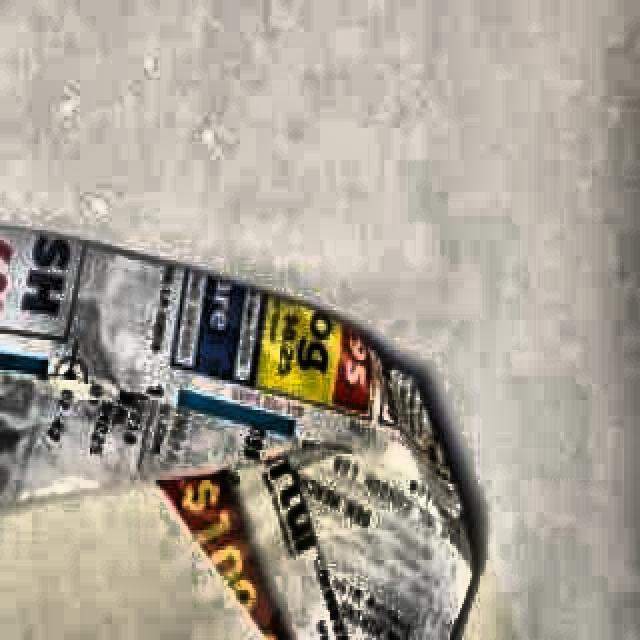paper: (0, 218, 474, 640)
